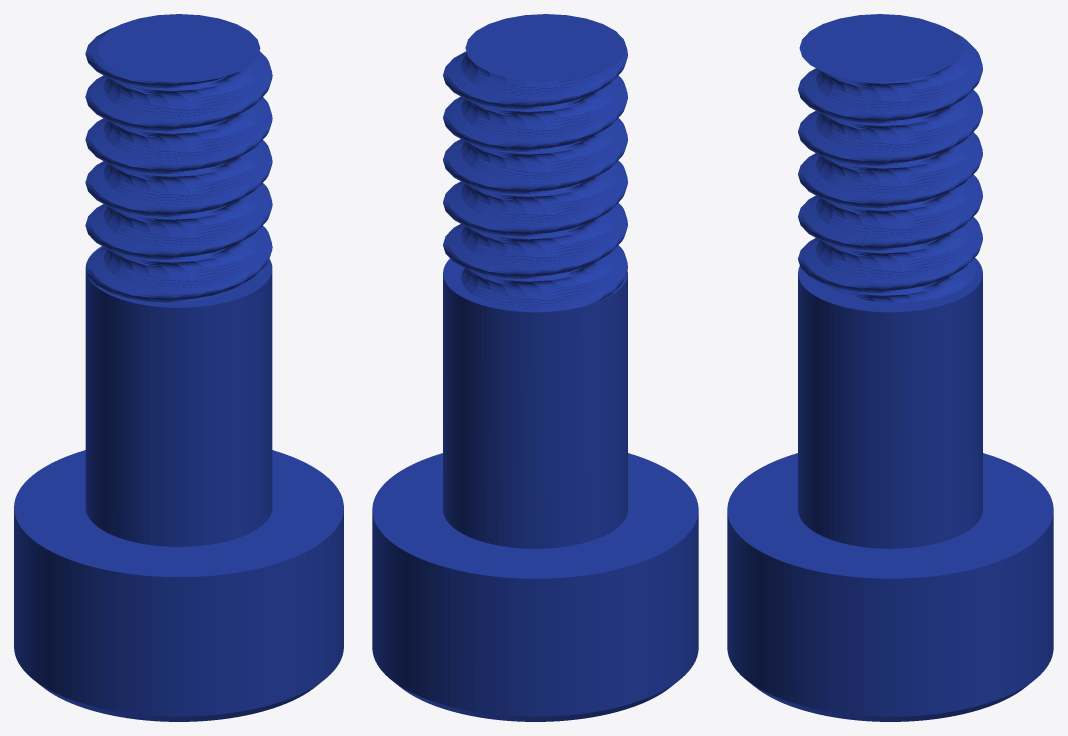
Rendered from screw_blue.dae.
The picture shows the model from 3 angles, left to right: view 1: azimuth 30°, elevation 25°; view 2: azimuth 150°, elevation 25°; view 3: azimuth 270°, elevation 25°; orthographic projection.
Parts seen in each view (by area): view 1: _c643ccbc4db44196f113ea1; view 2: _c643ccbc4db44196f113ea1; view 3: _c643ccbc4db44196f113ea1.
Part boxes in pixels (x1,y1,x2,y2): _c643ccbc4db44196f113ea1: [14, 14, 343, 721]; _c643ccbc4db44196f113ea1: [372, 14, 698, 721]; _c643ccbc4db44196f113ea1: [727, 14, 1053, 721].
Bounding box in the file's own units: 0.03 × 0.03 × 0.0616.
